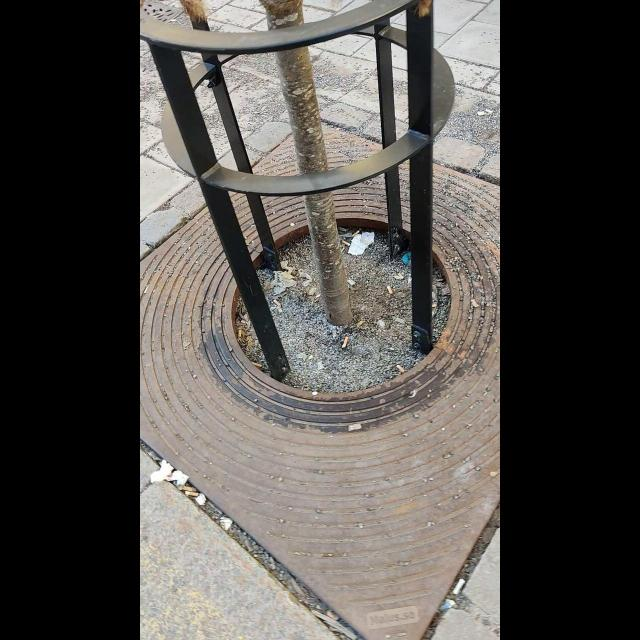cigarette: (452, 578, 465, 596), (470, 297, 480, 307), (341, 336, 348, 350), (396, 364, 407, 372), (180, 484, 194, 490), (341, 238, 350, 247), (251, 362, 263, 368), (387, 284, 393, 296), (183, 492, 200, 496), (272, 299, 280, 307), (356, 321, 364, 328), (238, 328, 243, 338), (353, 230, 359, 237), (398, 272, 404, 279)
